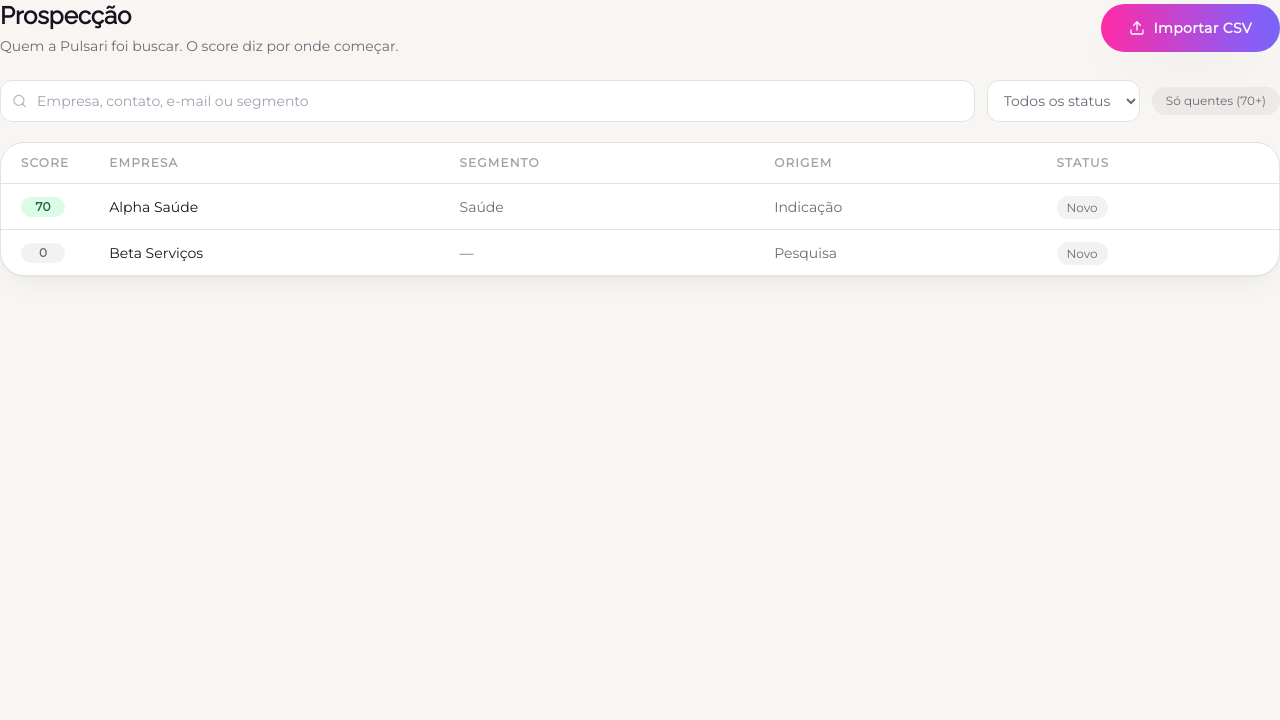
it: painel com score explicado › lista fator a fator o que somou e o que faltou
Click the button "Beta Serviços": [156, 252] box [109,242,203,262]
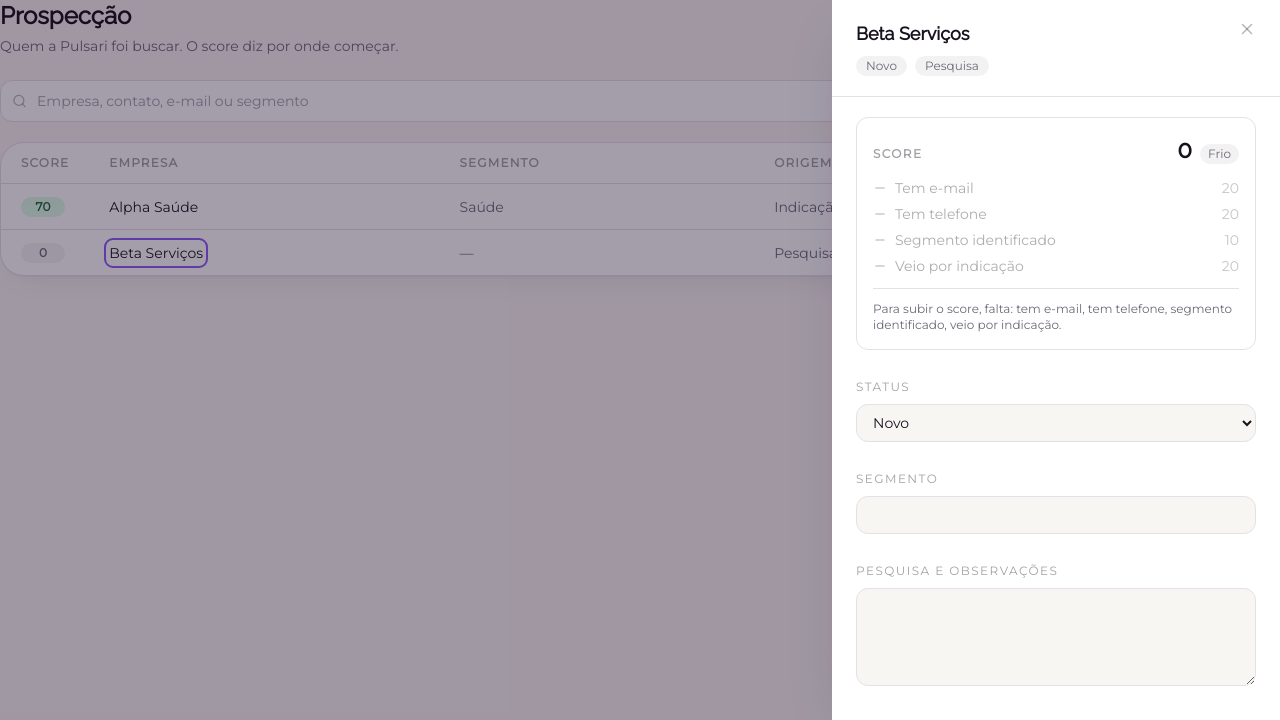
expect the text "Tem e-mail" is shown: met, box [873,178,974,198]
expect the text "Tem telefone" is shown: met, box [873,204,987,224]
expect the text "Para subir o score, falta" is shown: met, box [873,301,1013,316]
